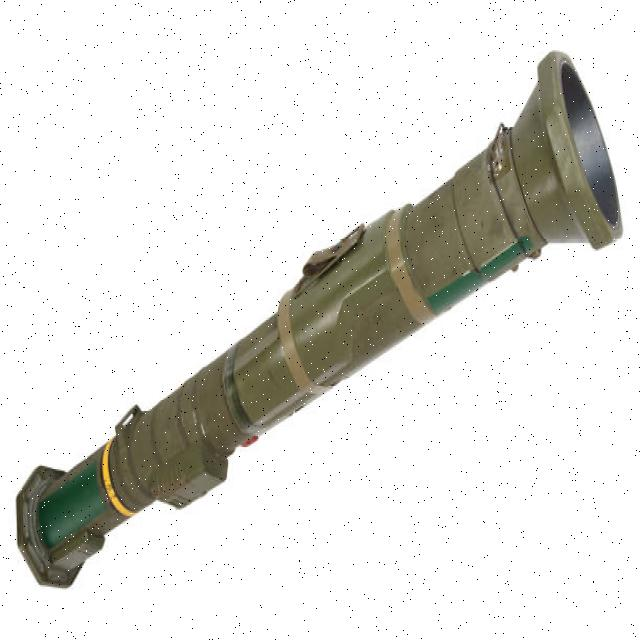bazooka: (8, 37, 631, 609)
